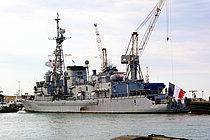MIL_Ship: (19, 61, 192, 116)
